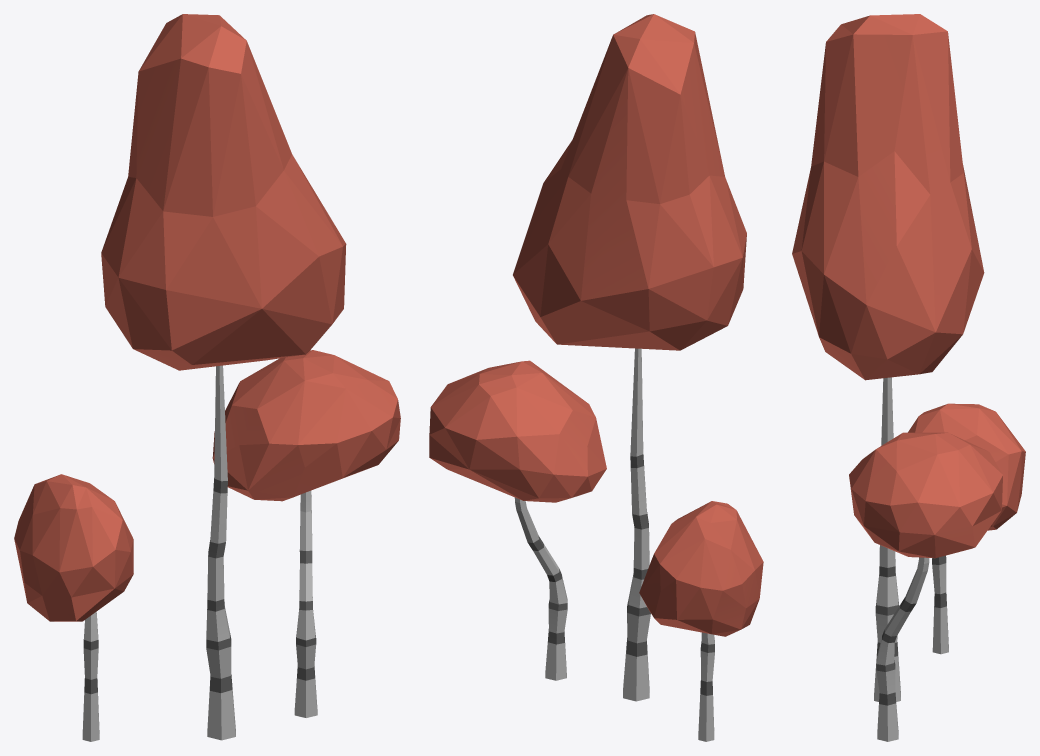
File: birch_3.fbx
The picture shows the model from 3 angles, left to right: view 1: azimuth 30°, elevation 25°; view 2: azimuth 150°, elevation 25°; view 3: azimuth 270°, elevation 25°; orthographic projection. The views are drawn at different scales.
Parts seen in each view (by area): view 1: birch_3; view 2: birch_3; view 3: birch_3.
Boxes of the visible parts, x1=… form: birch_3: x1=14, y1=14, x2=400, y2=741; birch_3: x1=429, y1=14, x2=763, y2=741; birch_3: x1=792, y1=14, x2=1025, y2=741.
Size of the model in its own units: 387 by 761 by 238.
